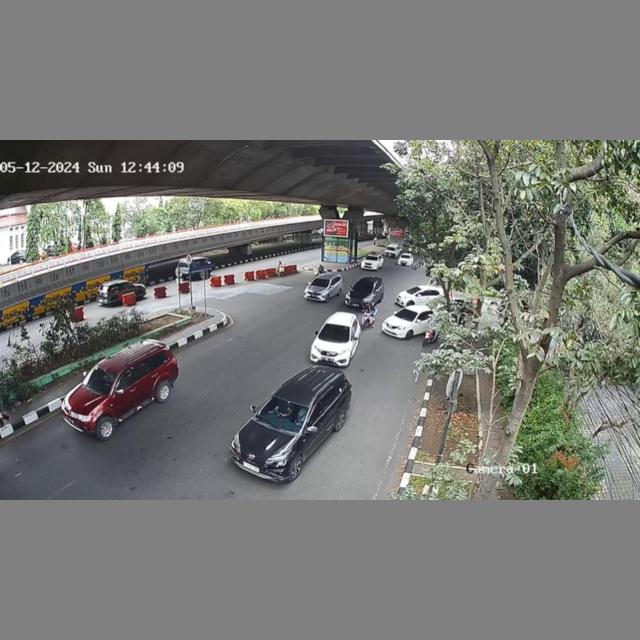windshield: (256, 394, 312, 429), (83, 364, 119, 396), (319, 324, 349, 342)
